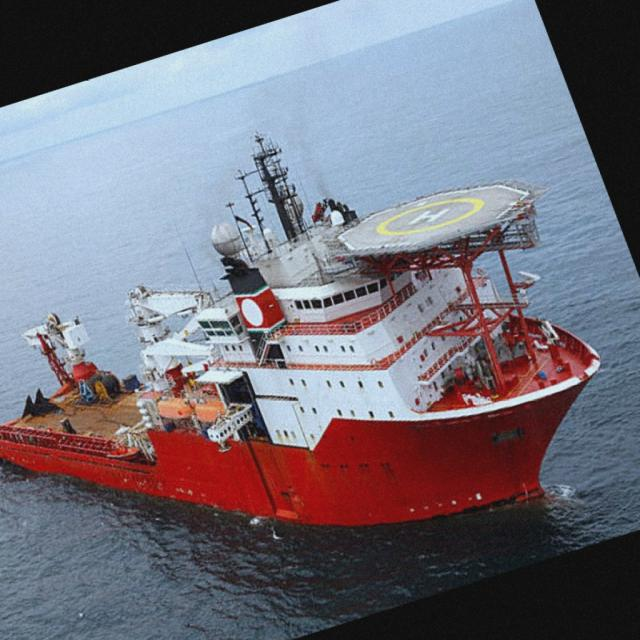helipad: (369, 193, 487, 240)
